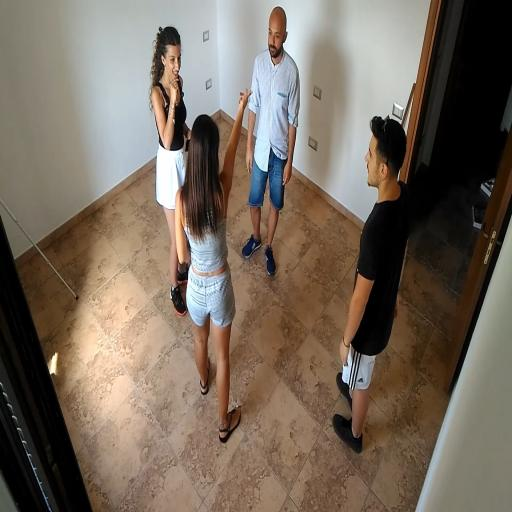nao-violencia: (159, 75, 269, 461)
